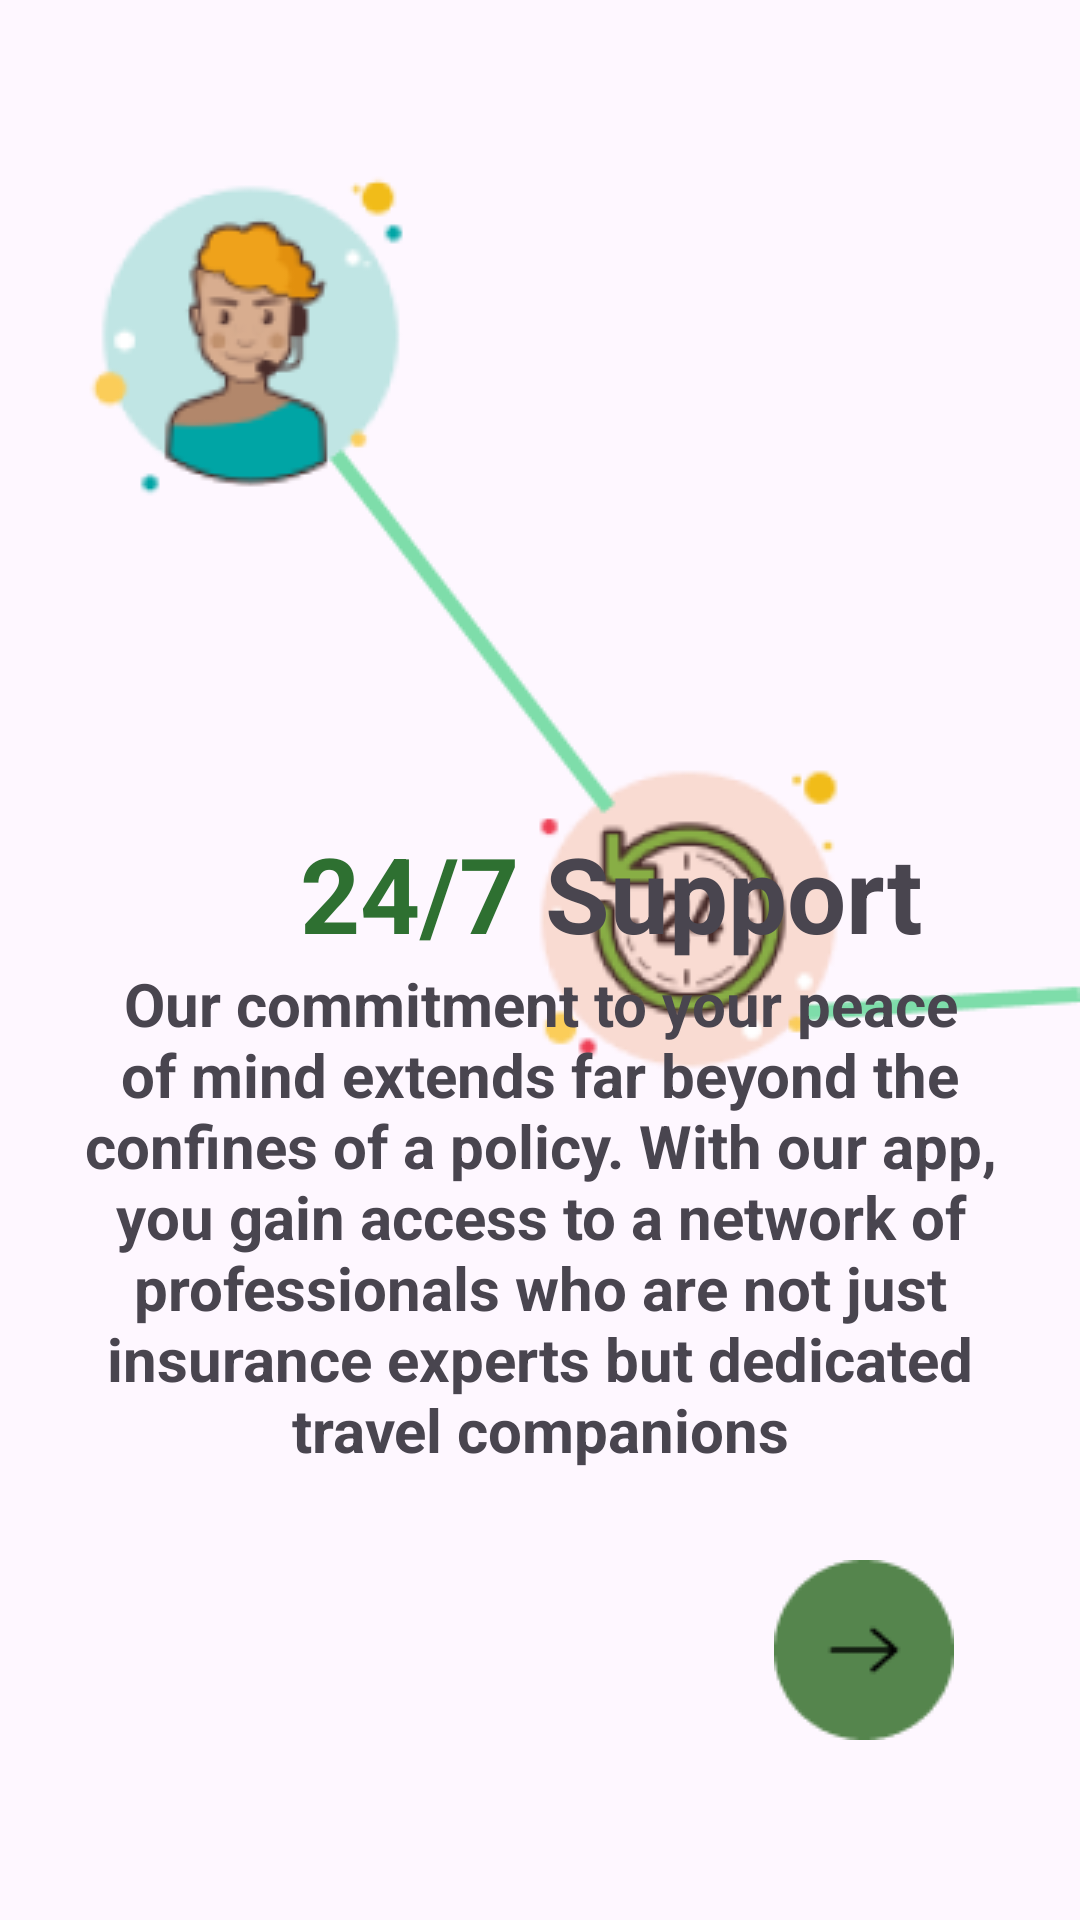

Screen size 1080w x 1920h. Icon name, then its box in pixels as Rect(x1, y1, x2, y2):
arrow: Rect(774, 1560, 954, 1740)
